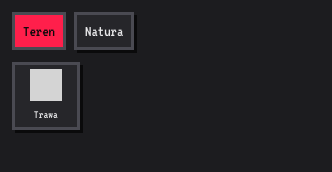
Test: AssetPalette › switches category with the tabs
Click the button "Natura".
click(104, 31)  # box [74,12,134,50]
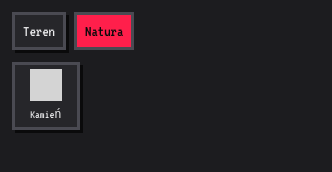
Check: the button "Kamień" is shown, box [12,62,80,130]
Check: the button "Trawa" is gone
